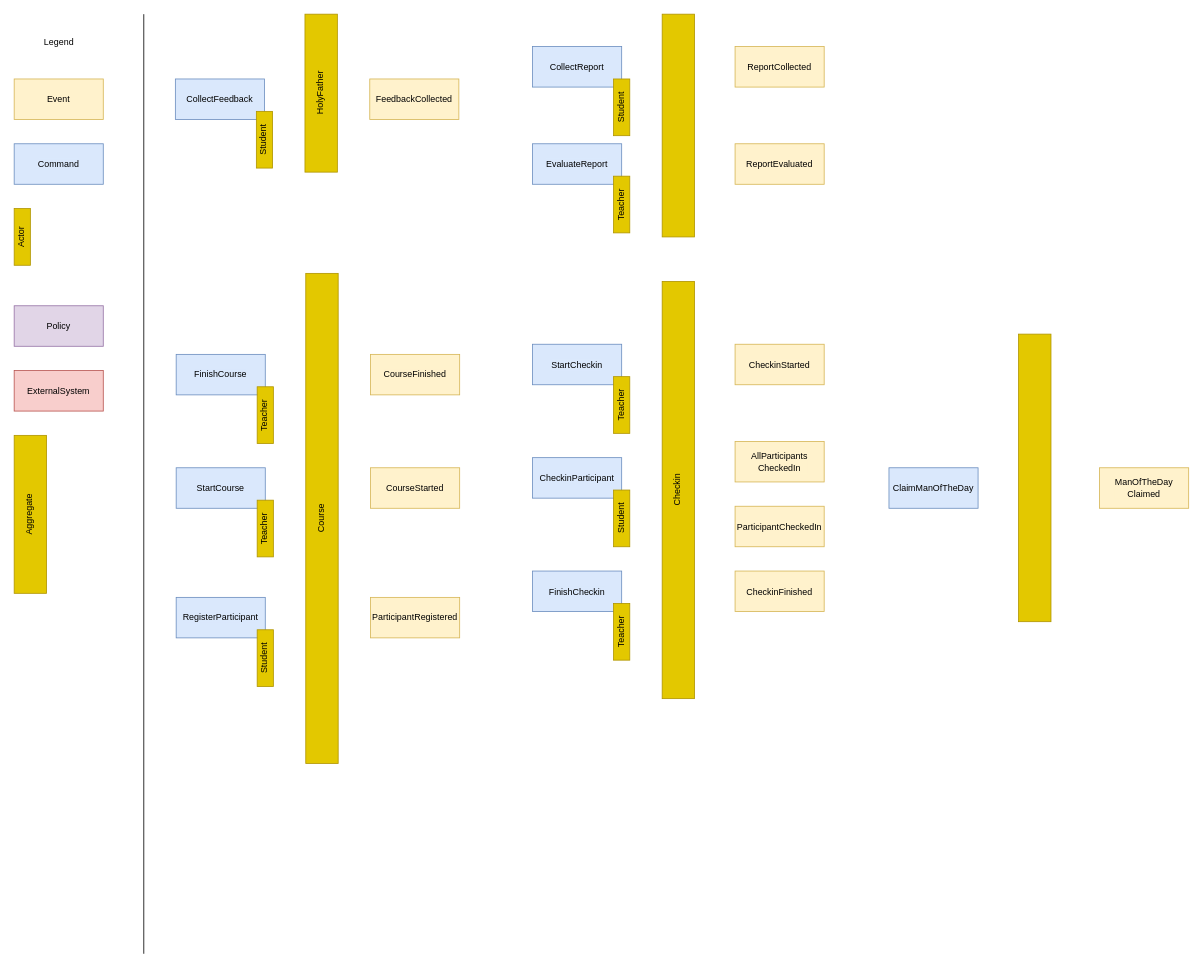
This 1203x969 diagram has some shape labels left out. Each missing label, with the centre of its shape:
ManOfTheDay: [1034,477]
ReportCollector: [678,125]
